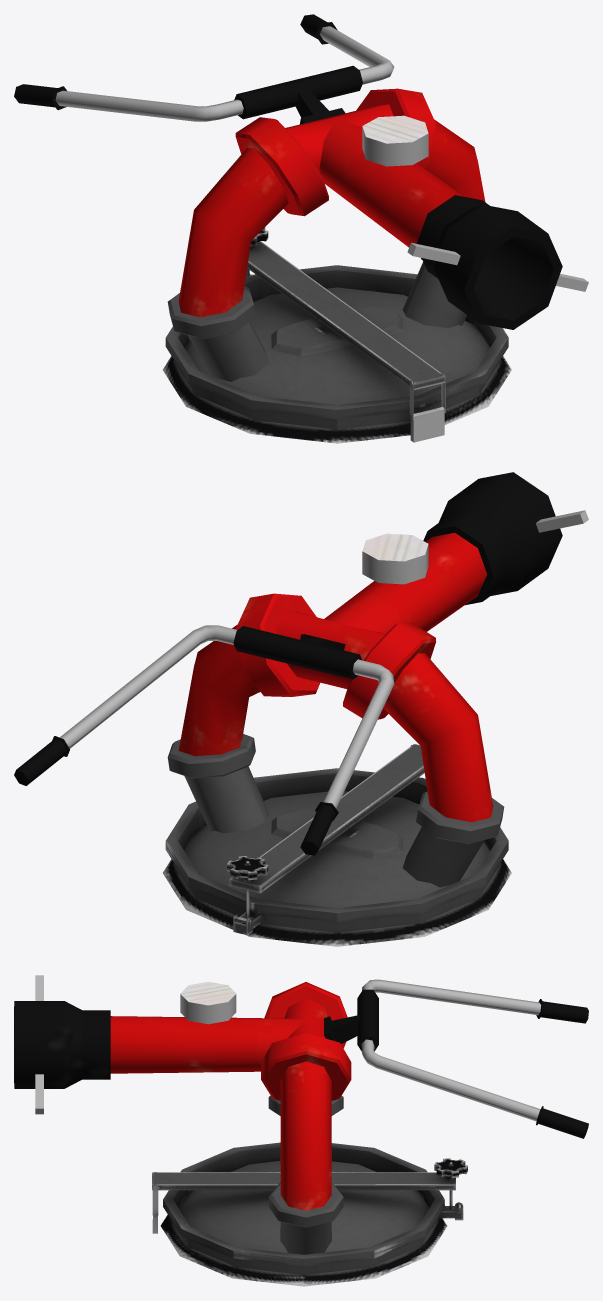
The model's file is Hose Fire Truck.fbx.
3 views of the same model, one above another, from view 1: azimuth 30°, elevation 25°; view 2: azimuth 150°, elevation 25°; view 3: azimuth 270°, elevation 25° (orthographic). The views are drawn at different scales.
Visible parts, largest first — view 1: Cylinder; view 2: Cylinder; view 3: Cylinder.
Part boxes in pixels (x1,y1,x2,y2): Cylinder: (14,14,588,443); Cylinder: (14,472,588,946); Cylinder: (14,975,588,1286).
Bounding box in the file's own units: 0.7648 × 0.6352 × 1.42.
